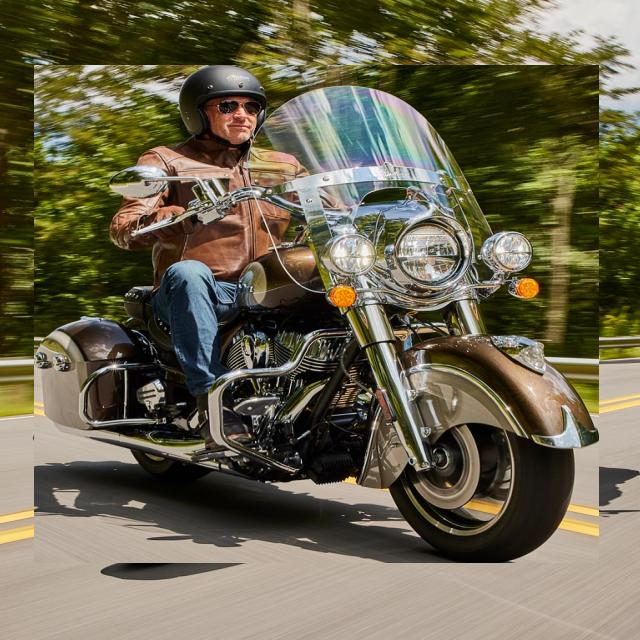motorcycle: (34, 65, 599, 563)
